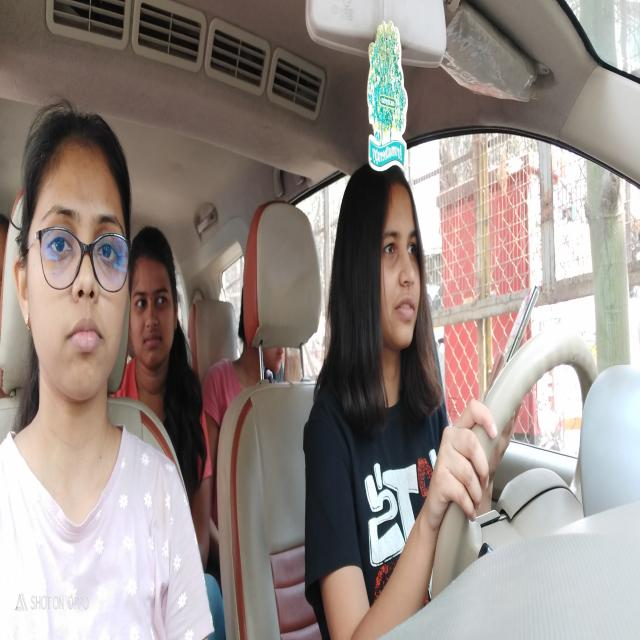mobile: (486, 278, 544, 366)
person: (19, 99, 133, 405), (332, 166, 435, 360), (131, 228, 182, 383), (267, 344, 292, 384)
